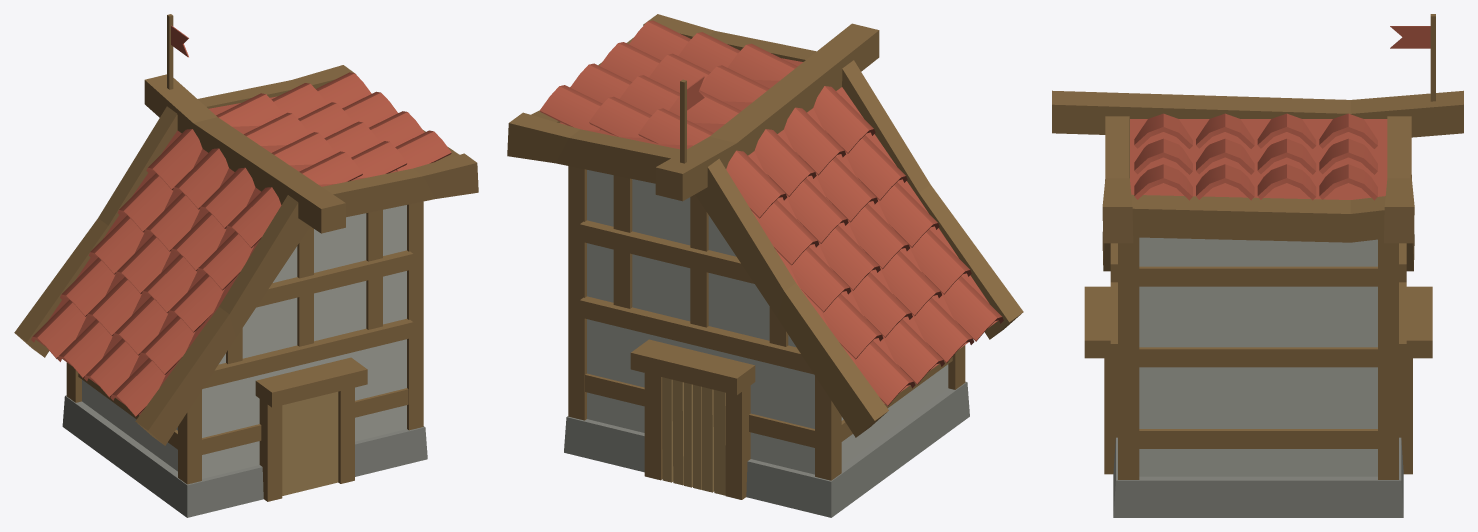
The model's file is House-nihGGju7DW.glb.
3 renders of one model, left to right at view 1: azimuth 30°, elevation 25°; view 2: azimuth 150°, elevation 25°; view 3: azimuth 270°, elevation 25°, orthographic. The views are drawn at different scales.
Visible parts, largest first — view 1: Houses_SecondAge_2_Level1; view 2: Houses_SecondAge_2_Level1; view 3: Houses_SecondAge_2_Level1.
Part boxes in pixels (x1,y1,x2,y2): Houses_SecondAge_2_Level1: (14, 14, 478, 517); Houses_SecondAge_2_Level1: (507, 14, 1023, 517); Houses_SecondAge_2_Level1: (1052, 14, 1463, 517).
Bounding box in the file's own units: 0.8874 × 0.9455 × 0.8112.
